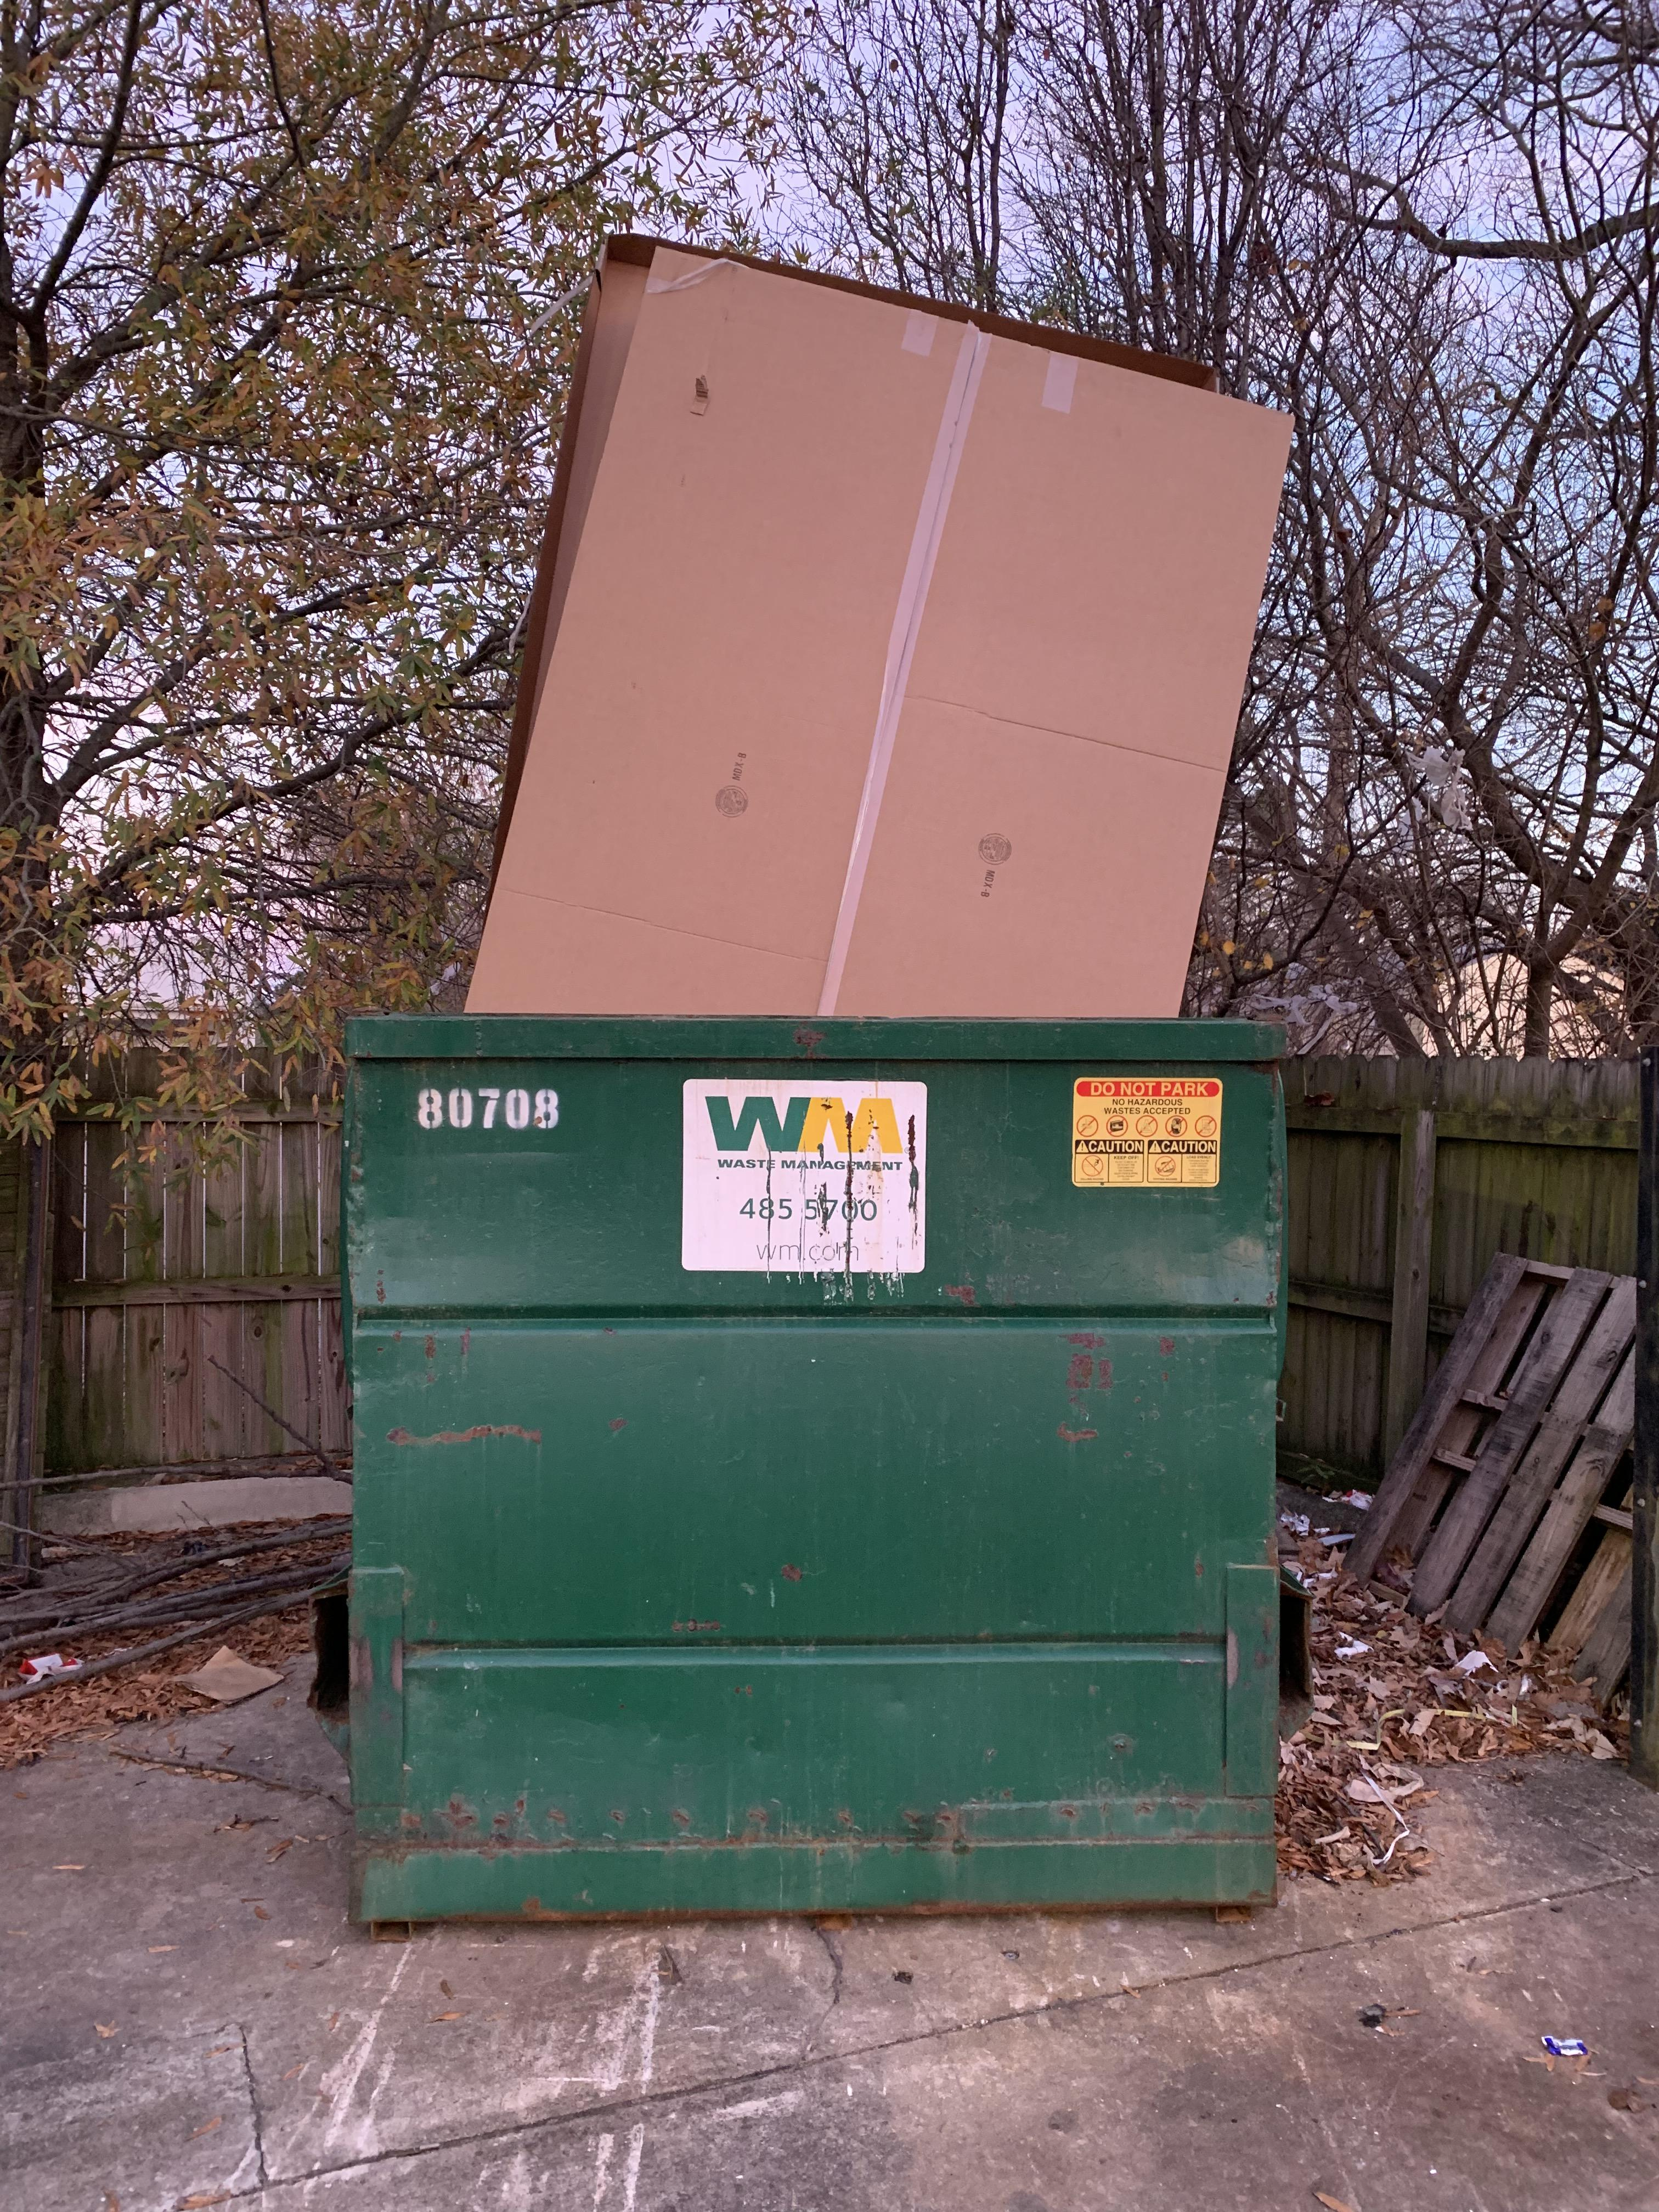Dumpster: (308, 996, 1328, 1956)
